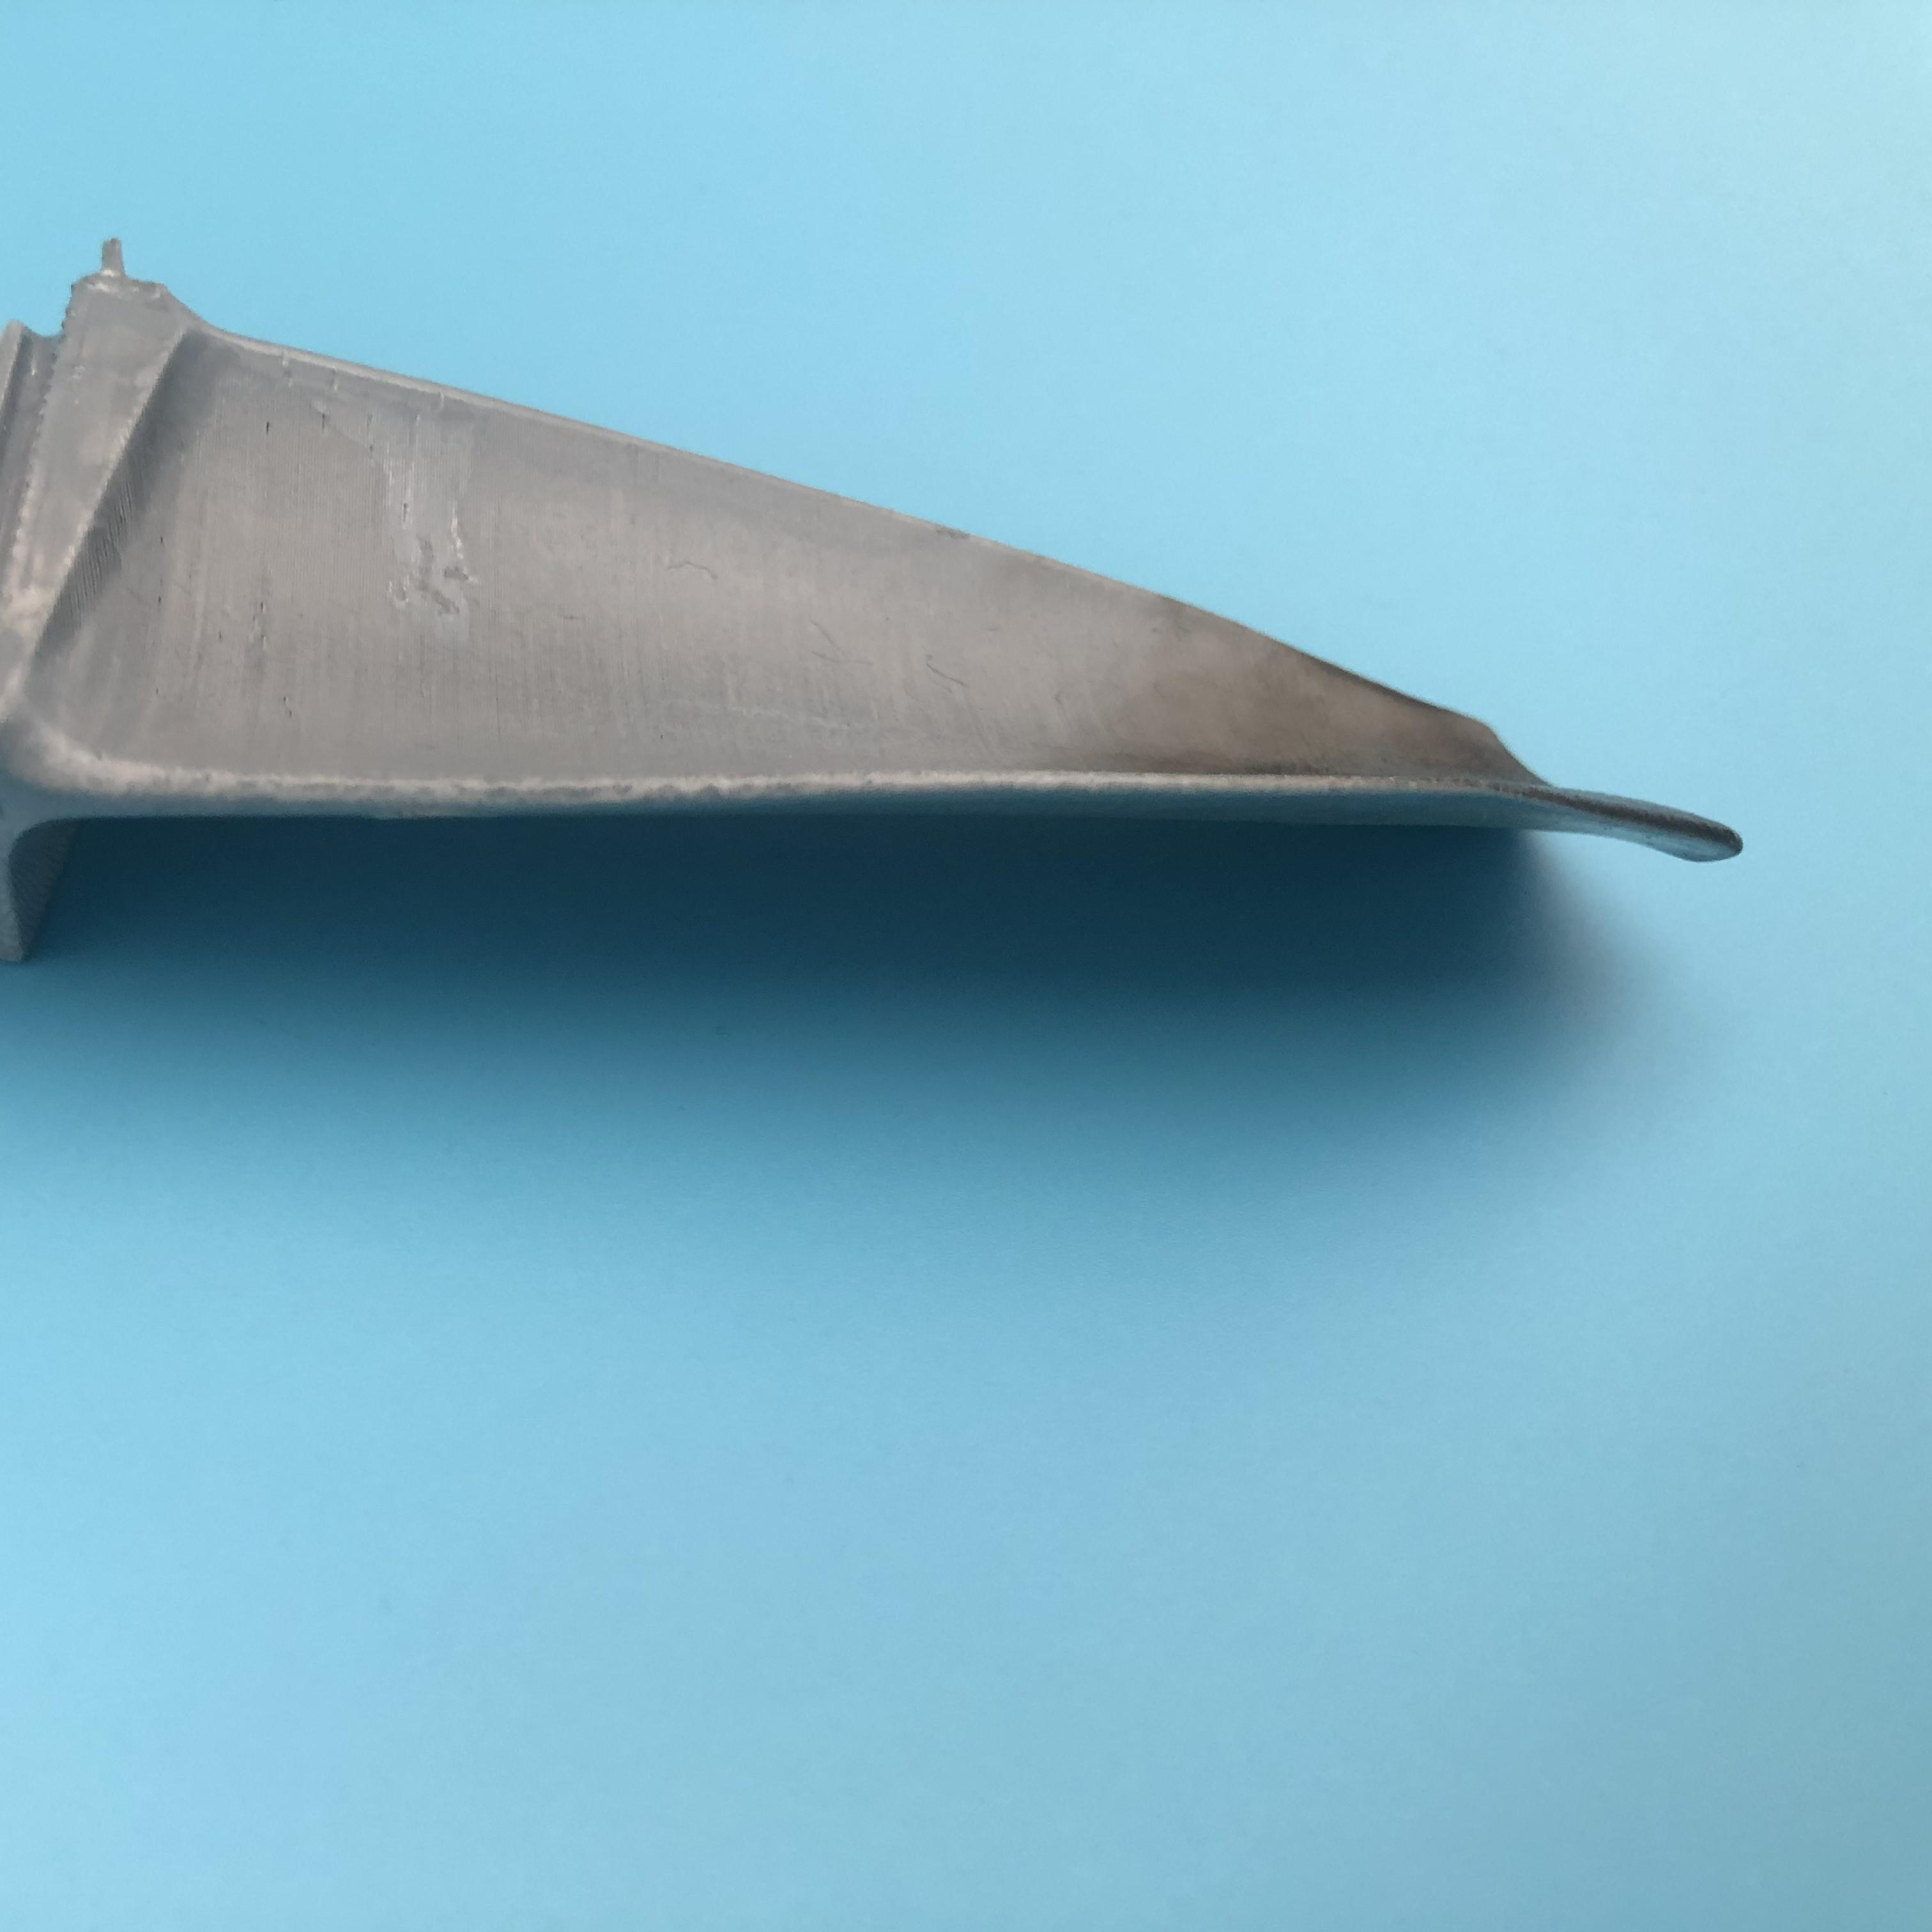ablation: (1212, 649, 1615, 812)
